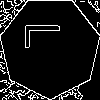L: (25, 22, 69, 50)
